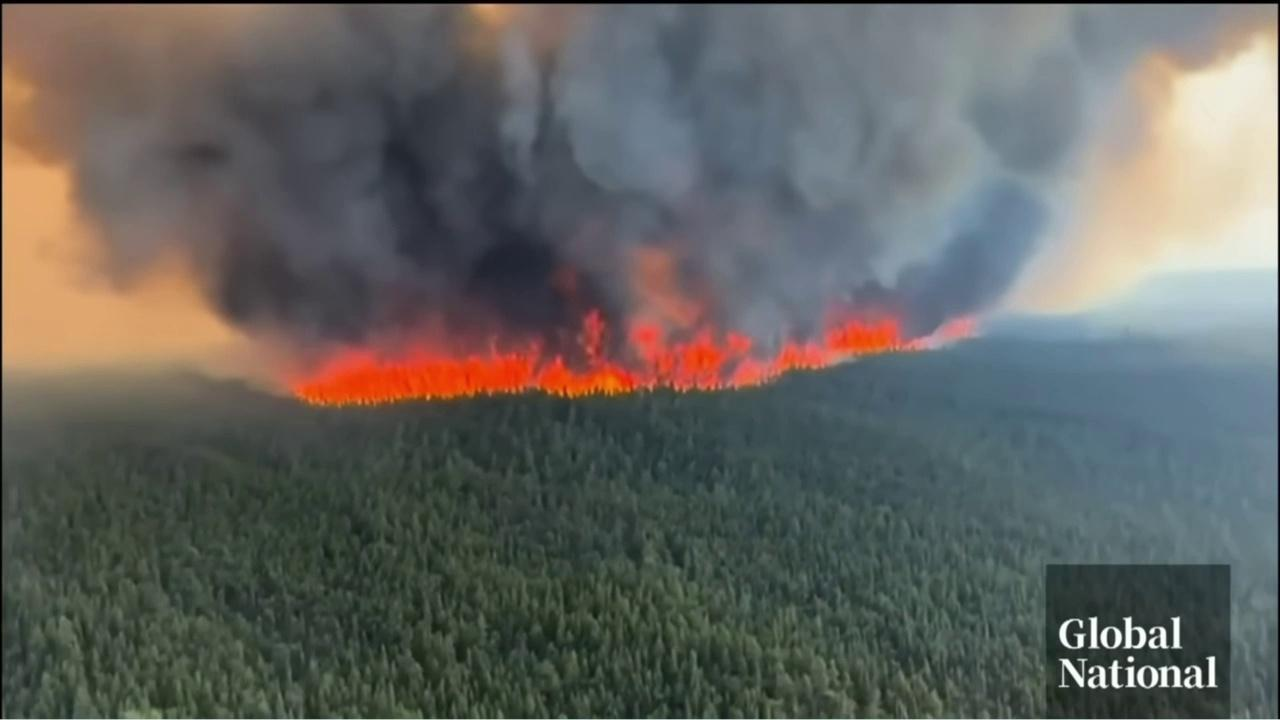fire: (290, 242, 978, 409)
smoke: (3, 3, 1278, 419)
